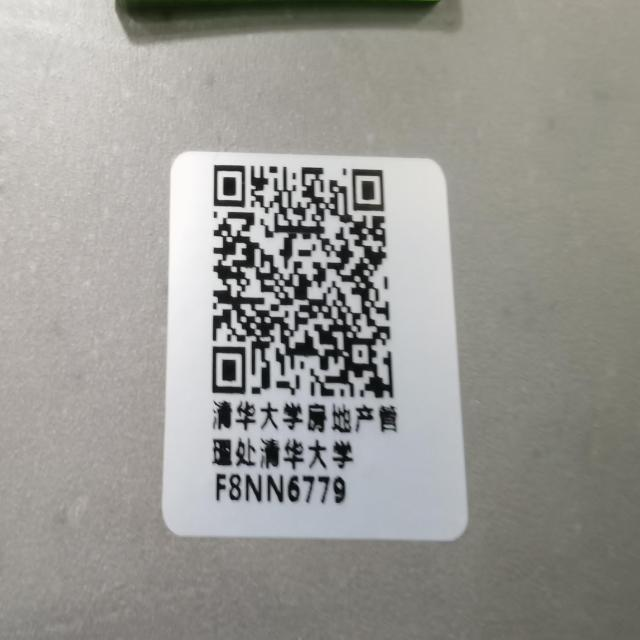qr_code: (212, 164, 394, 399)
